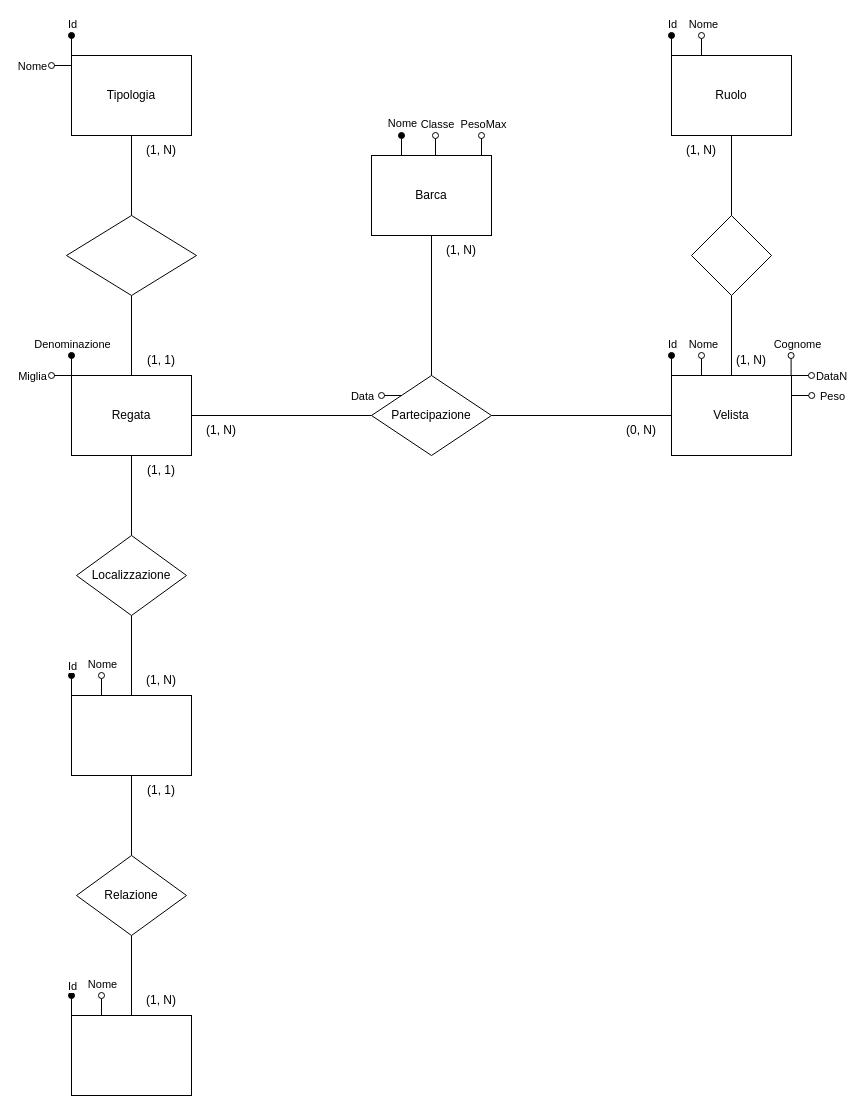
Image size: 864x1113. Some labels were removed from this diagram. The centre of each missing label's shape, as x and y in pixels:
"Categorizazzione" goes at [131,255].
"Luogo" goes at [131,735].
"Nazione" goes at [131,1055].
"Ricopre" goes at [731,255].
